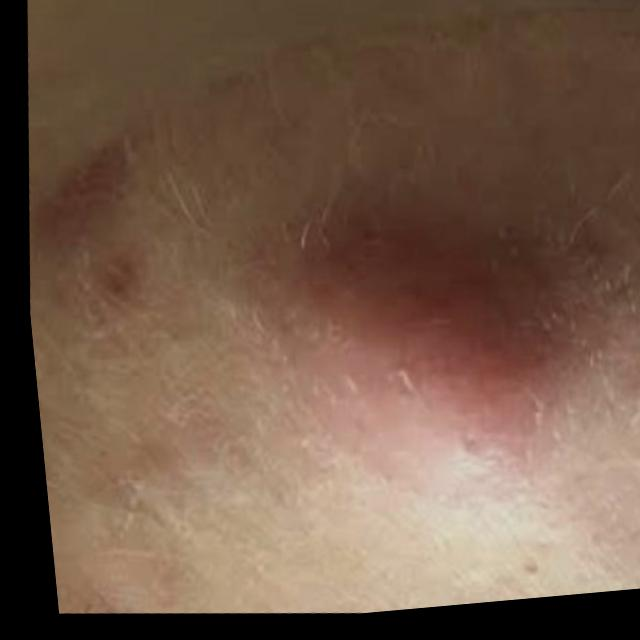nodule: (237, 183, 602, 525)
